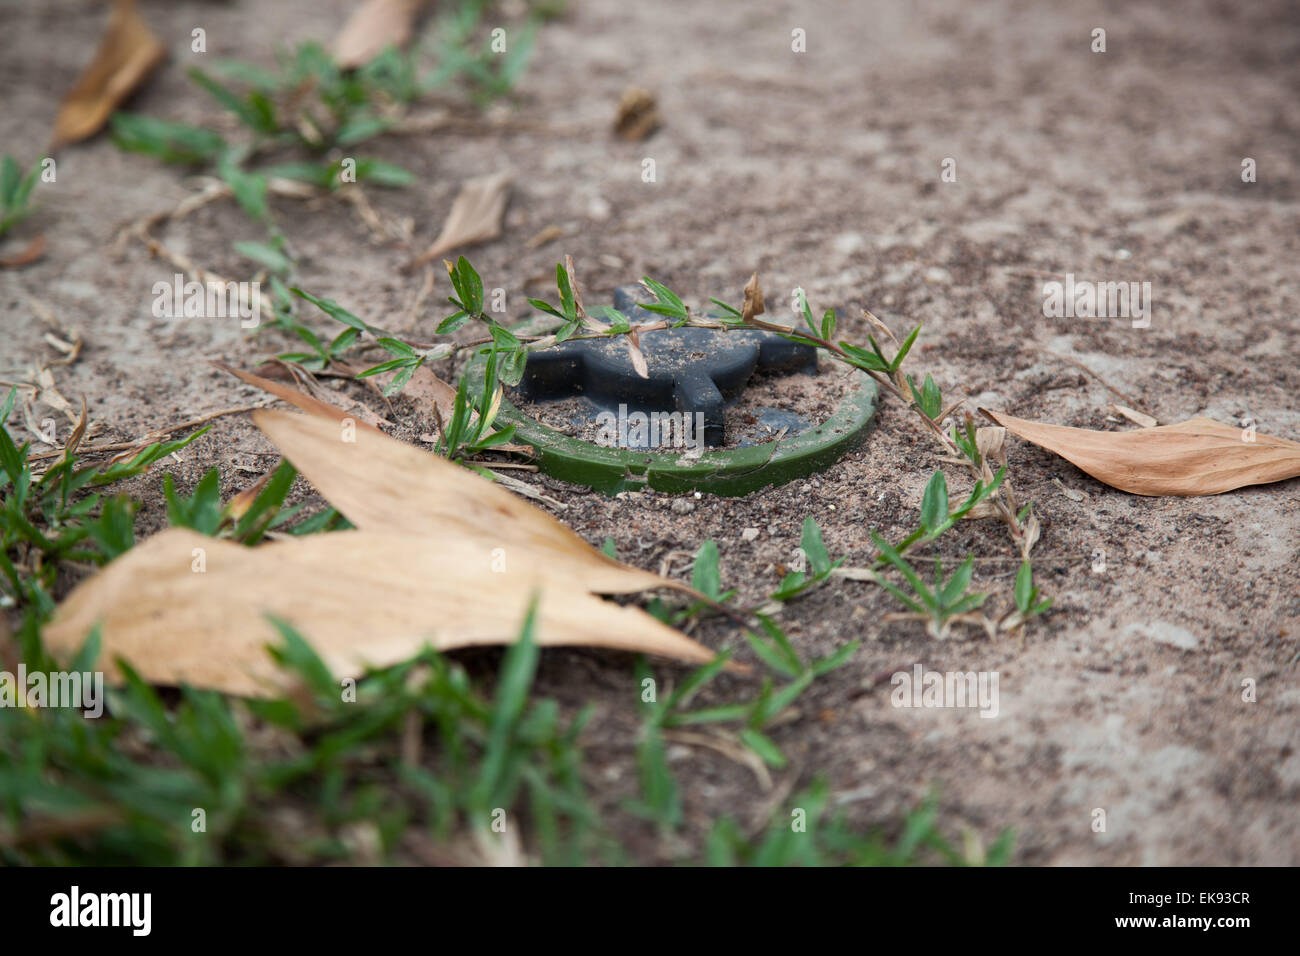PMN 2: (463, 283, 893, 510)
